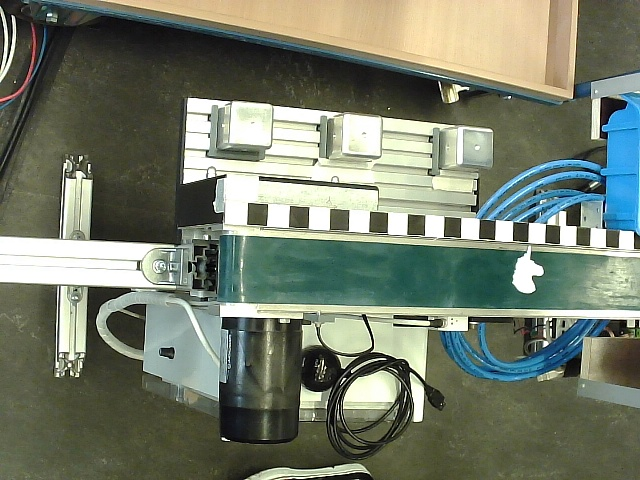unicorn: (511, 244, 544, 294)
